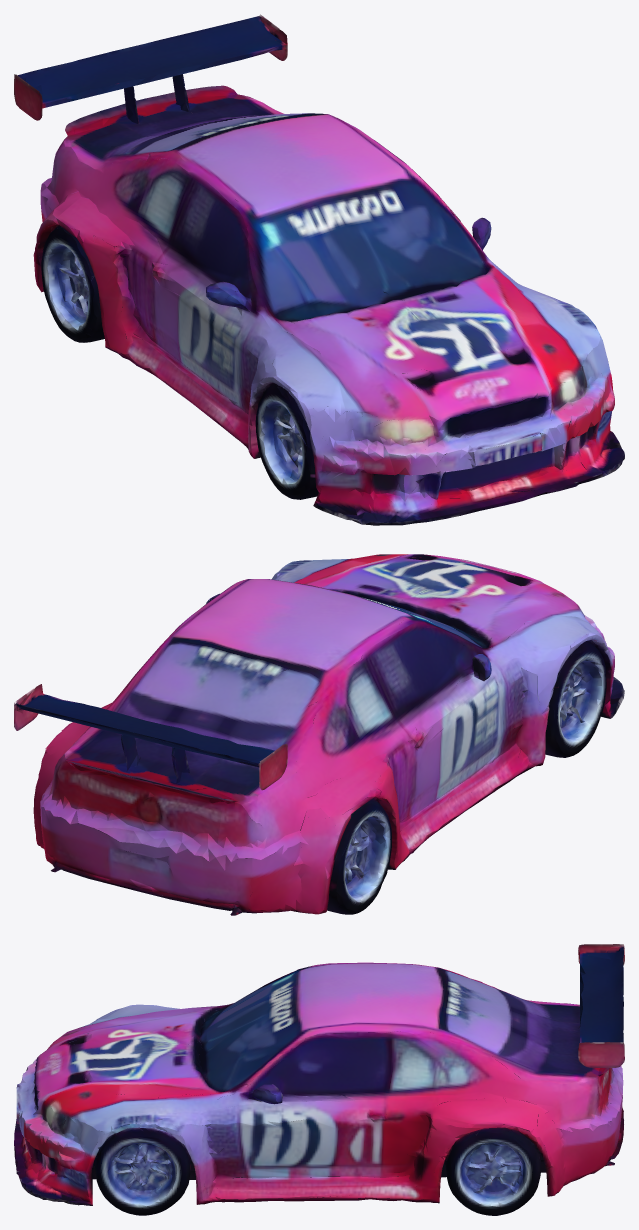
Rendered from v8supercar1.glb.
The picture shows the model from 3 angles, top to bottom: view 1: azimuth 30°, elevation 25°; view 2: azimuth 150°, elevation 25°; view 3: azimuth 270°, elevation 25°; orthographic projection. The views are drawn at different scales.
Parts seen in each view (by area): view 1: body, wheel_front_L, wheel_rear_L, wheel_front_R; view 2: body, wheel_rear_L, wheel_front_L, wheel_rear_R; view 3: body, wheel_front_R, wheel_rear_R.
Boxes of the visible parts, x1=… form: body: x1=14, y1=14, x2=611, y2=525; wheel_front_L: x1=155, y1=376, x2=440, y2=525; wheel_rear_L: x1=33, y1=194, x2=166, y2=384; wheel_front_R: x1=492, y1=299, x2=624, y2=485; body: x1=14, y1=554, x2=621, y2=913; wheel_rear_L: x1=204, y1=795, x2=444, y2=915; wheel_front_L: x1=430, y1=615, x2=624, y2=836; wheel_rear_R: x1=33, y1=750, x2=151, y2=872; body: x1=14, y1=944, x2=624, y2=1203; wheel_front_R: x1=16, y1=1120, x2=412, y2=1215; wheel_rear_R: x1=323, y1=1114, x2=618, y2=1215.
Size of the model in its own units: 1.86 by 1.22 by 4.
1 material, 1 textured.
